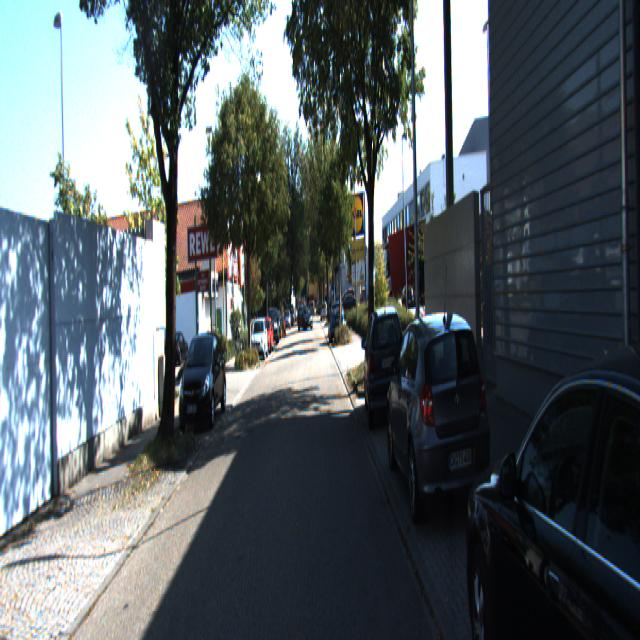Car: (448, 290, 640, 638), (385, 298, 495, 518), (363, 302, 409, 425), (178, 328, 227, 434), (251, 319, 268, 362), (330, 302, 346, 345), (258, 317, 274, 355)
